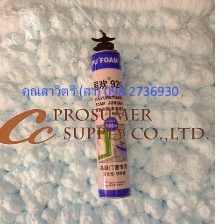aerosol_cans: (85, 27, 134, 204)
